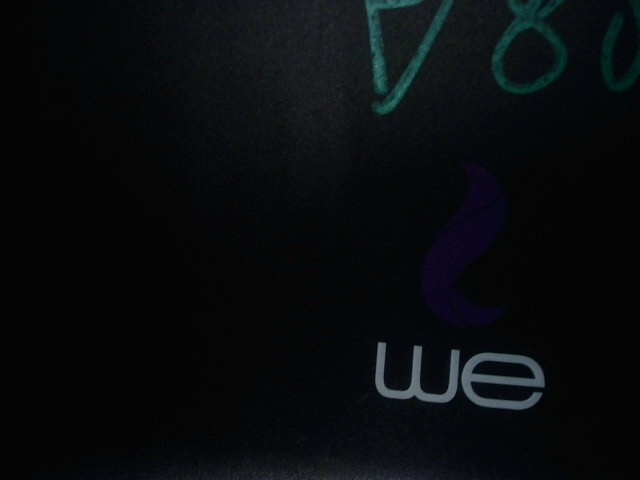AT_We: (369, 154, 552, 415)
